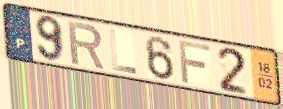2: (216, 46, 249, 97)
6: (143, 34, 175, 81)
9: (33, 14, 65, 65)
F: (177, 39, 213, 86)
L: (108, 27, 139, 76)
R: (66, 19, 107, 71)
